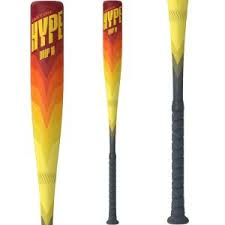baseball bat: (27, 1, 66, 225), (100, 1, 124, 224), (165, 1, 189, 224)
